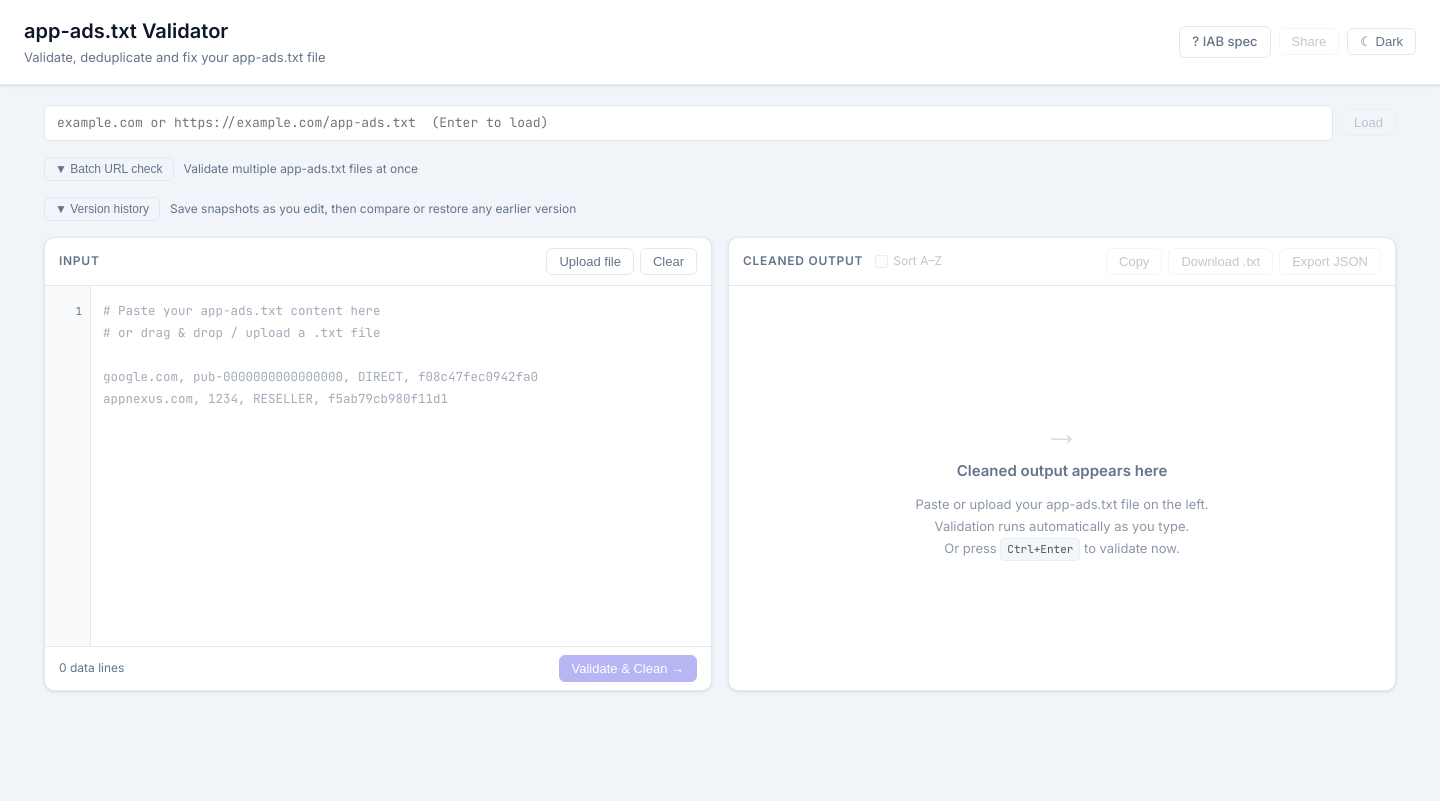
Test case: App — URL loader › ignores a second Enter press while the first URL fetch is still in flight, instead of racing two fetches
The width and height of the screenshot is (1440, 801).
Replace the text in the field with placeholder "example.com" with "first.com" at (689, 122), box [44, 104, 1333, 140]
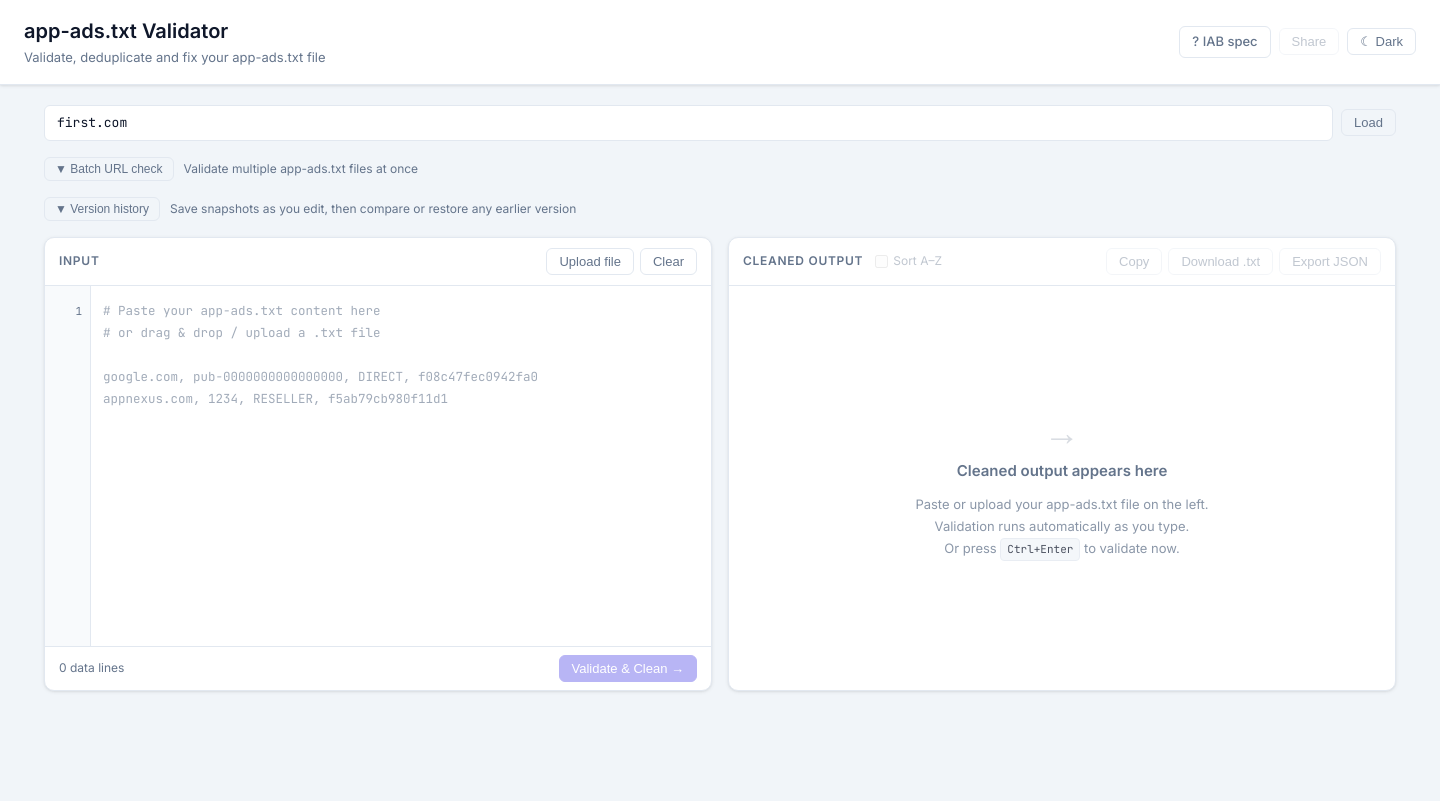
Press Enter in the field with placeholder "example.com", box [44, 104, 1333, 140]
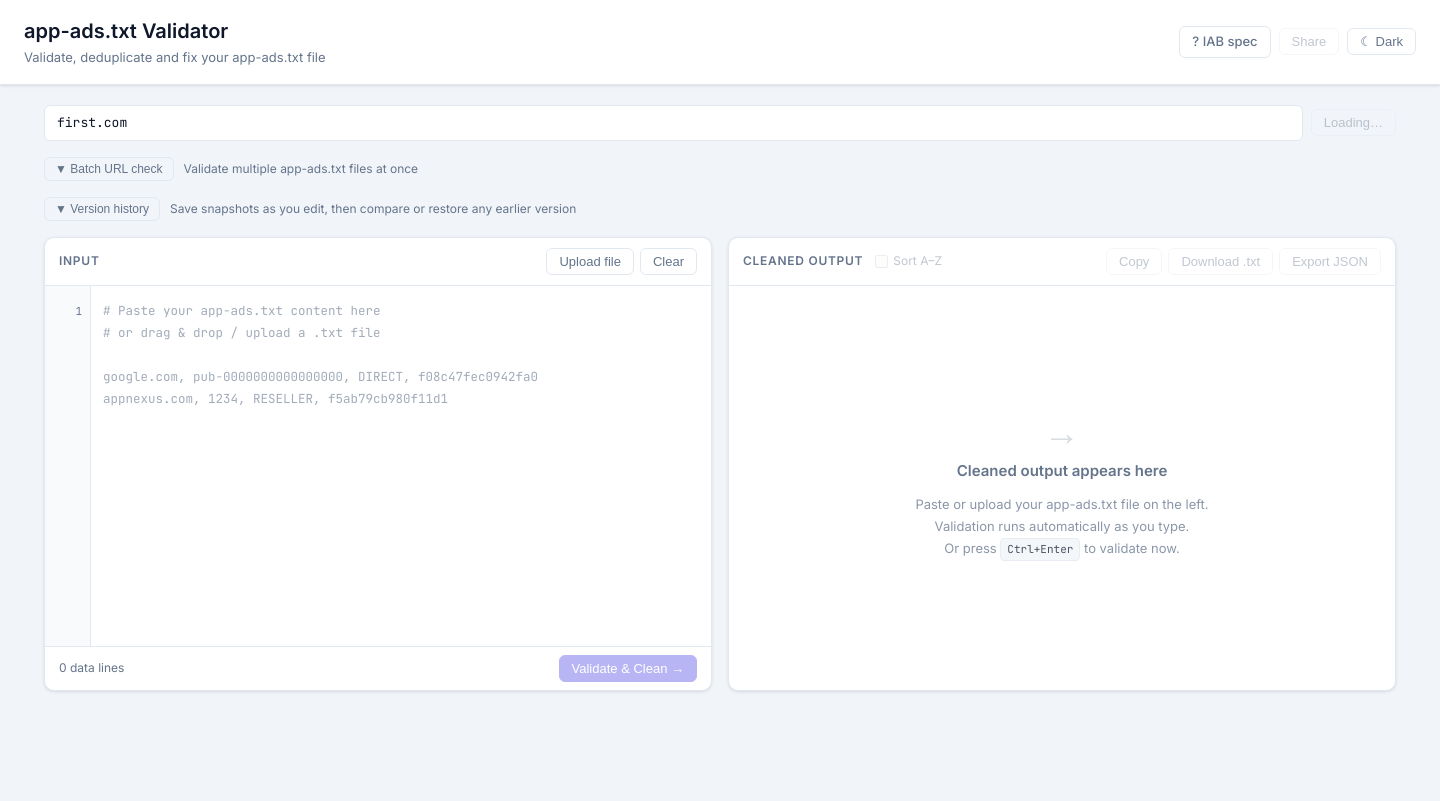
Replace the text in the field with placeholder "example.com" with "second.com" at (673, 122), box [44, 104, 1303, 140]
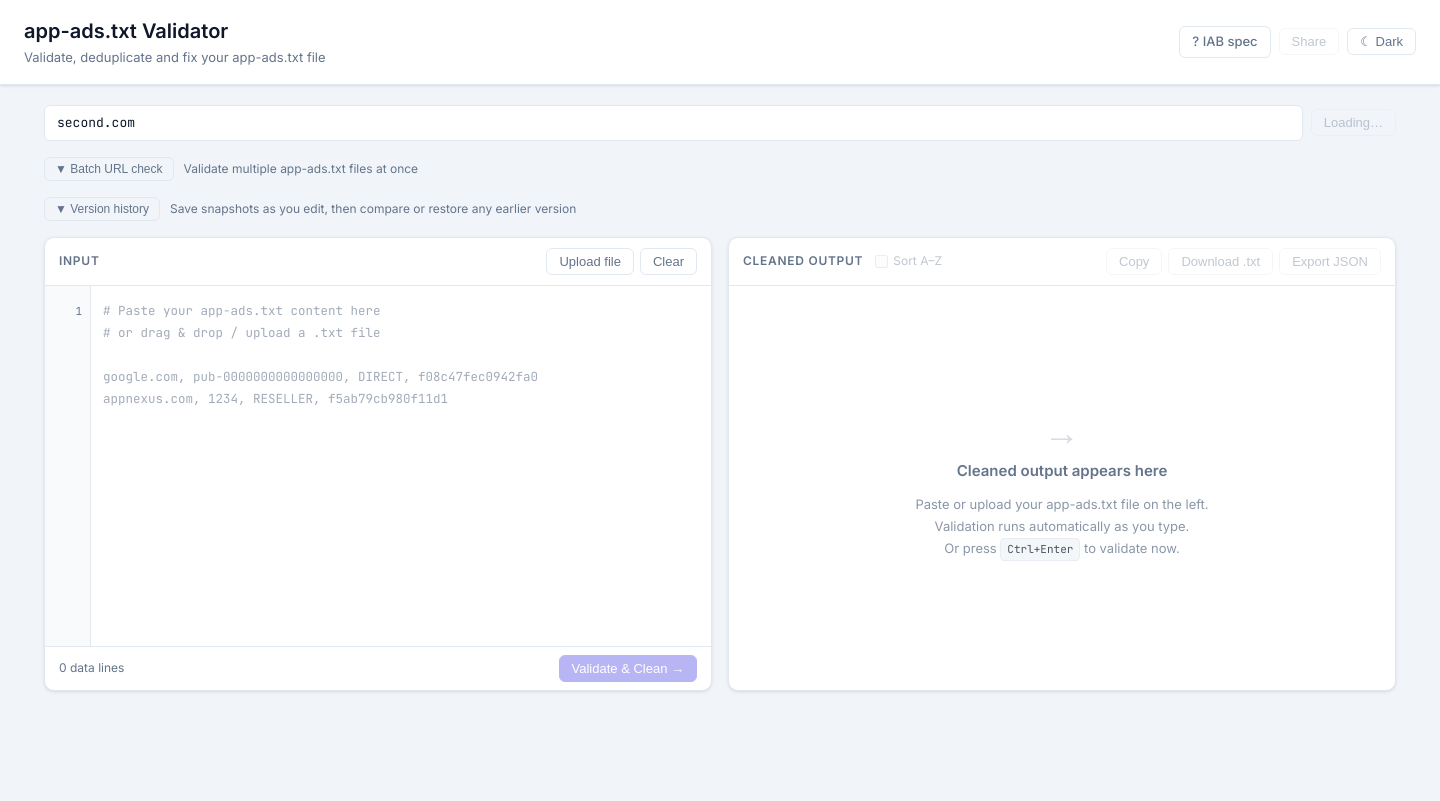
Press Enter in the field with placeholder "example.com", box [44, 104, 1303, 140]
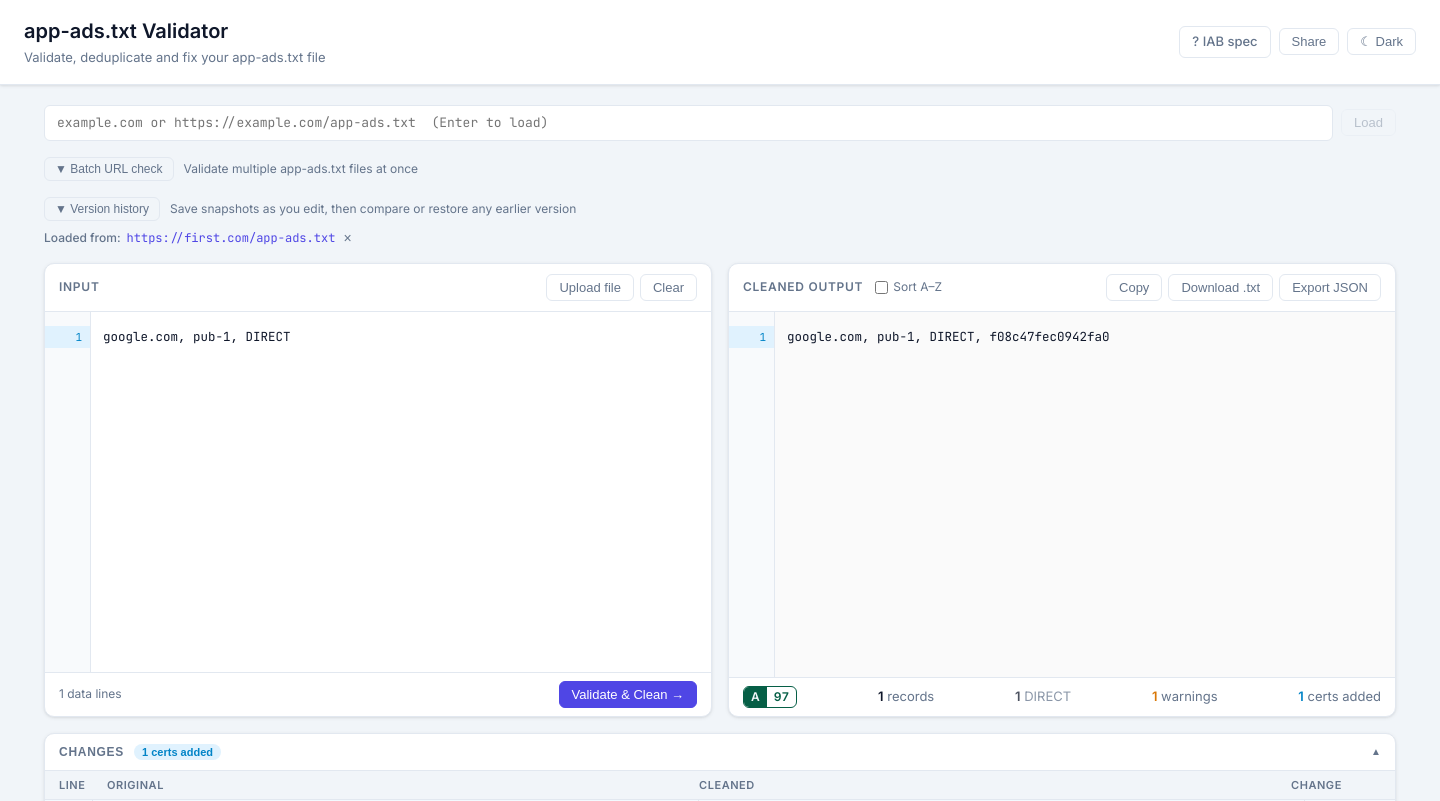
Check: the text box named "app-ads.txt input" holds "google.com, pub-1, DIRECT", box [91, 312, 711, 672]
